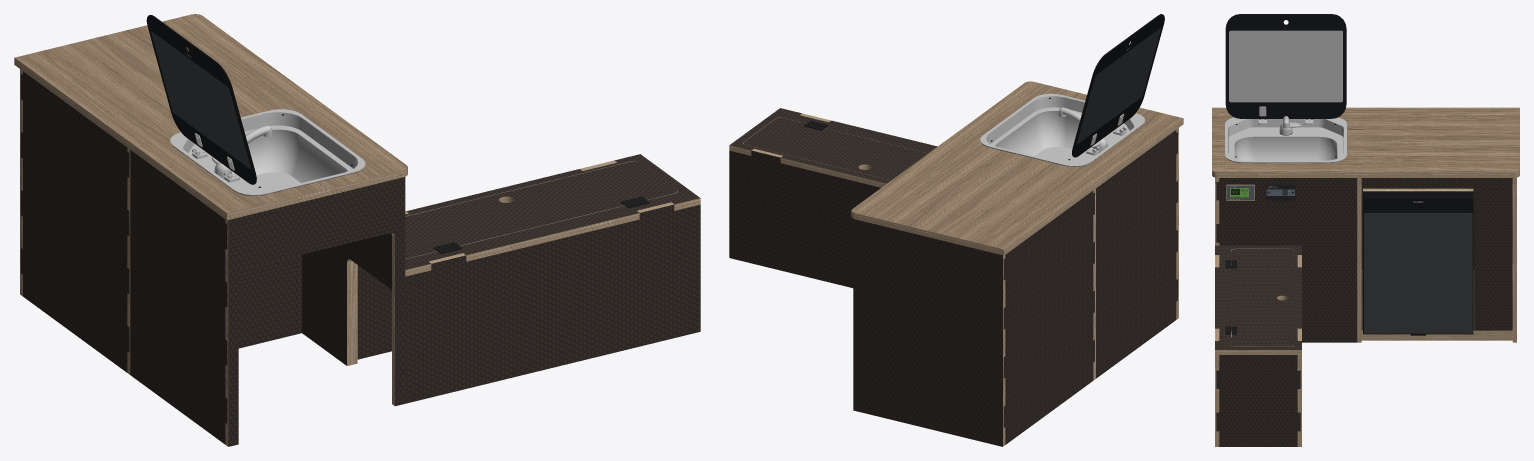
File: front-module-rear-130-hexa.glb
3 renders of one model, left to right at view 1: azimuth 30°, elevation 25°; view 2: azimuth 150°, elevation 25°; view 3: azimuth 270°, elevation 25°, orthographic. The views are drawn at different scales.
Parts seen in each view (by area): view 1: Forward end panel -15mm with top tenons_1, ボディ61_0, Back panel - 15mm with tenons_0.002, Back panel - 15mm with tenons_0.001, Forward end panel -15mm with top tenons_1.001, ボディ56_1, Stainless basin with rear faucet ledge_0, Front panel - 15mm with tenons_1.001, Gray ceramic printed field approximation_0, Forward end panel -15mm with top tenons_1.002, ボディ57_1, Black safety glass_0 (+4 smaller); view 2: Rearward end panel -15mm with top tenons_1.001, ボディ61_0, Back panel - 15mm with tenons_0.002, Back panel - 15mm with tenons_0.001, Rearward end panel -15mm with top tenons_1, Stainless basin with rear faucet ledge_0, ボディ56_1, Gray ceramic printed field approximation_0, ボディ57_1, Black safety glass_0, ボディ57_0; view 3: ボディ61_0, Front panel - 15mm with tenons_1.001, Dark gray frameless face_0, ボディ15 (1)_0, Front panel - 15mm with tenons_0, ボディ56_1, Rear extension removable infill - 130x540x15mm_1, Stainless basin with rear faucet ledge_0, Black safety glass_0, ボディ57_1, Door black surround with full-width recessed handle_0, ボディ53_1 (+10 smaller).
Part boxes in pixels (x1,y1,x2,y2): Forward end panel -15mm with top tenons_1: [405, 204, 700, 403]; ボディ61_0: [14, 14, 407, 220]; Back panel - 15mm with tenons_0.002: [21, 71, 129, 372]; Back panel - 15mm with tenons_0.001: [130, 150, 227, 444]; Forward end panel -15mm with top tenons_1.001: [228, 177, 405, 446]; ボディ56_1: [405, 161, 677, 258]; Stainless basin with rear faucet ledge_0: [170, 109, 365, 195]; Front panel - 15mm with tenons_1.001: [302, 233, 391, 365]; Gray ceramic printed field approximation_0: [151, 31, 250, 169]; Forward end panel -15mm with top tenons_1.002: [238, 254, 301, 348]; ボディ57_1: [405, 154, 699, 269]; Black safety glass_0: [146, 15, 256, 184]; Rearward end panel -15mm with top tenons_1.001: [853, 219, 1002, 446]; ボディ61_0: [851, 81, 1183, 255]; Back panel - 15mm with tenons_0.002: [1003, 191, 1094, 444]; Back panel - 15mm with tenons_0.001: [1096, 130, 1177, 378]; Rearward end panel -15mm with top tenons_1: [729, 150, 880, 287]; Stainless basin with rear faucet ledge_0: [980, 93, 1144, 166]; ボディ56_1: [744, 118, 927, 180]; Gray ceramic printed field approximation_0: [1076, 28, 1161, 144]; ボディ57_1: [730, 108, 937, 183]; Black safety glass_0: [1072, 14, 1164, 157]; ボディ57_0: [729, 117, 927, 187]; ボディ61_0: [1212, 107, 1519, 177]; Front panel - 15mm with tenons_1.001: [1216, 178, 1357, 342]; Dark gray frameless face_0: [1364, 213, 1472, 333]; ボディ15 (1)_0: [1229, 30, 1342, 102]; Front panel - 15mm with tenons_0: [1216, 355, 1300, 446]; ボディ56_1: [1231, 249, 1294, 346]; Rear extension removable infill - 130x540x15mm_1: [1475, 188, 1512, 330]; Stainless basin with rear faucet ledge_0: [1225, 117, 1346, 162]; Black safety glass_0: [1225, 14, 1346, 118]; ボディ57_1: [1215, 245, 1301, 349]; Door black surround with full-width recessed handle_0: [1363, 191, 1473, 334]; ボディ53_1: [1361, 178, 1512, 188].
Size of the model in its own units: 1.37 by 1.02 by 1.06.
Materials: 30 (4 with a texture image).
